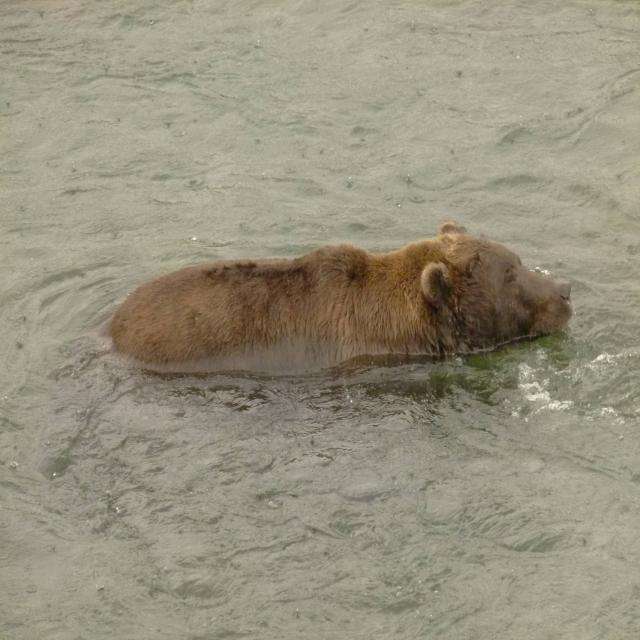bear face: (110, 221, 575, 377)
